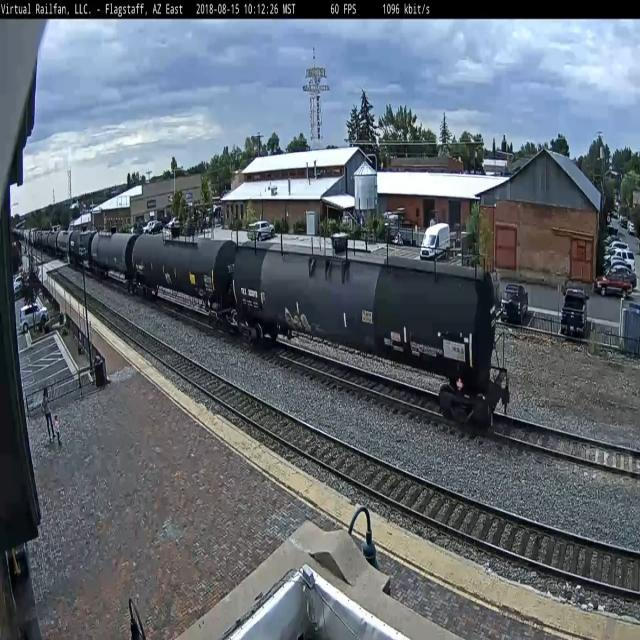tank: (226, 233, 516, 441), (128, 226, 238, 334), (90, 226, 136, 290)
